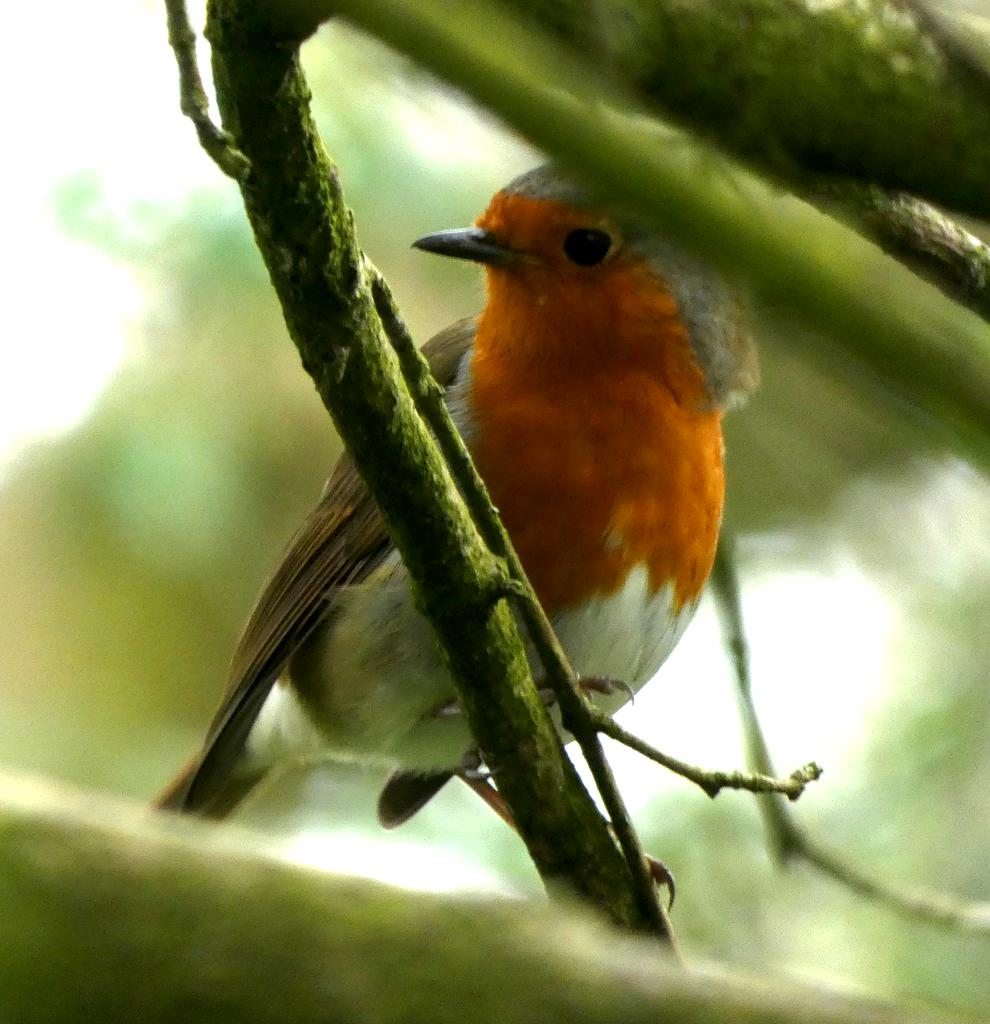ErithacusRubecula: (156, 161, 762, 903)
